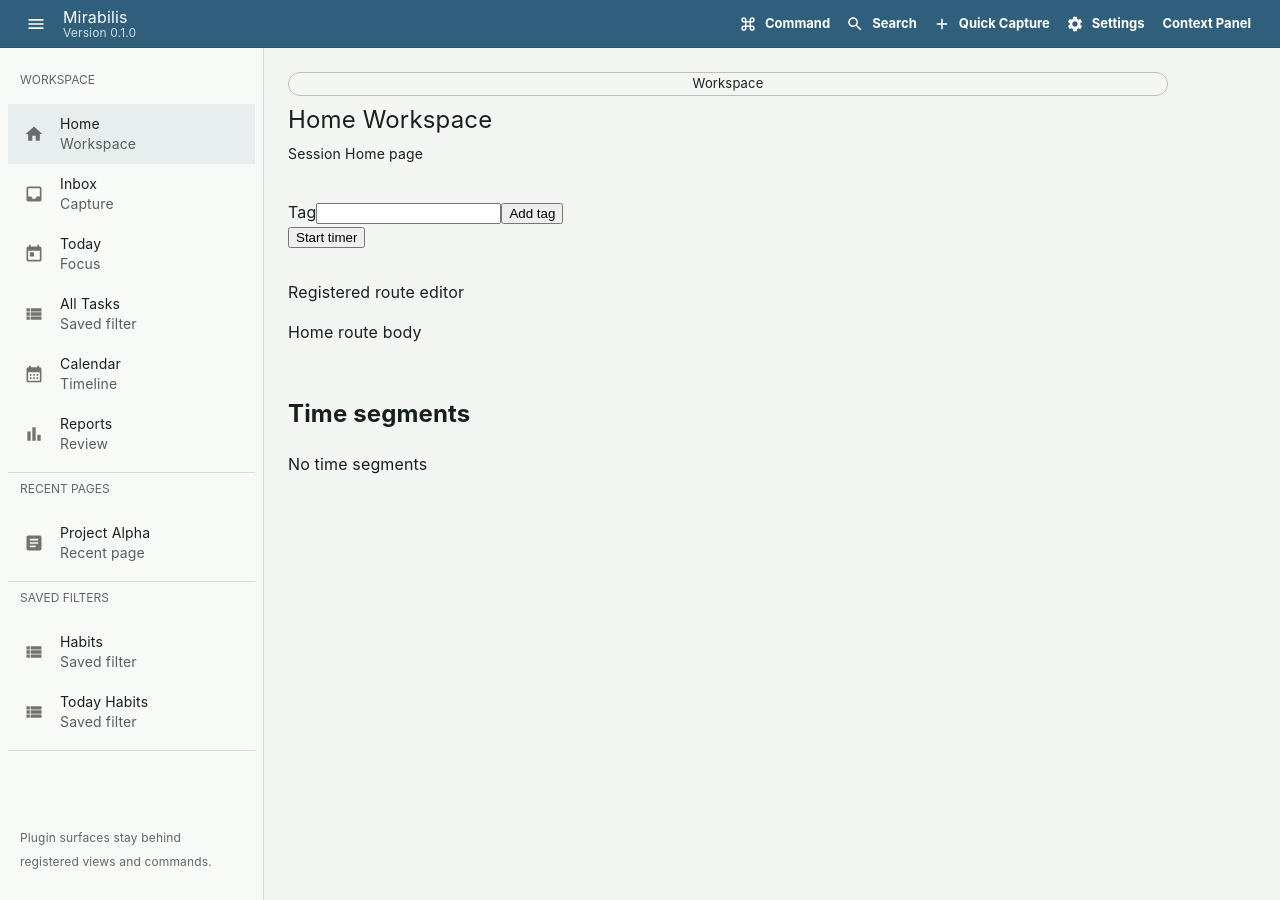
TASK-038 sidebar page and saved-filter navigation › keeps Home and recent page routes on the registered page editor through ViewHost
Expected: the text "Registered route editor" is shown, [288,282,464,302]
Expected: the text "Home route body" is shown, [288,322,422,342]
Click the button named "Workspace navigation".
click(36, 24)  # box [21,8,51,38]
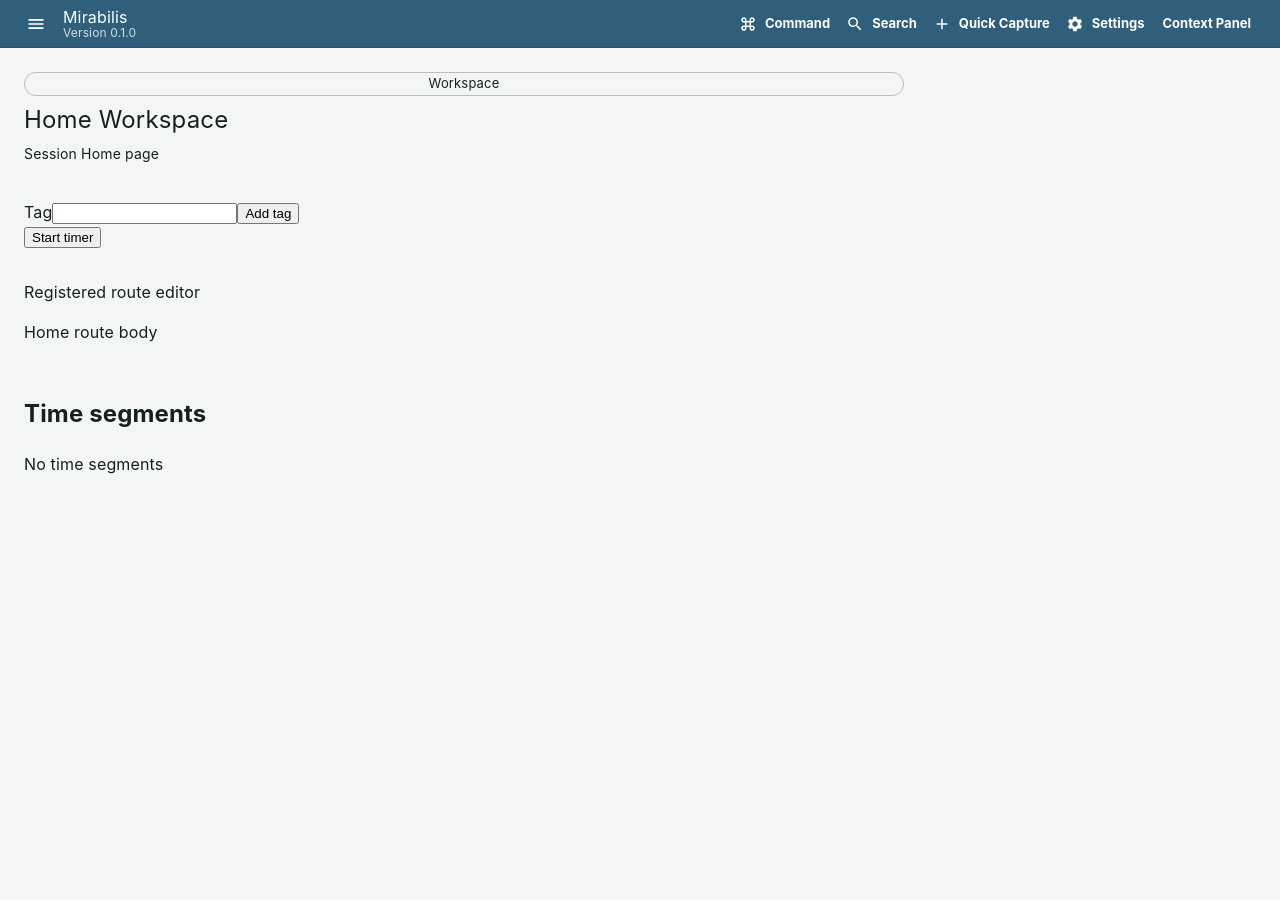
Click the button named "Workspace navigation".
click(36, 24)  # box [21,8,51,38]
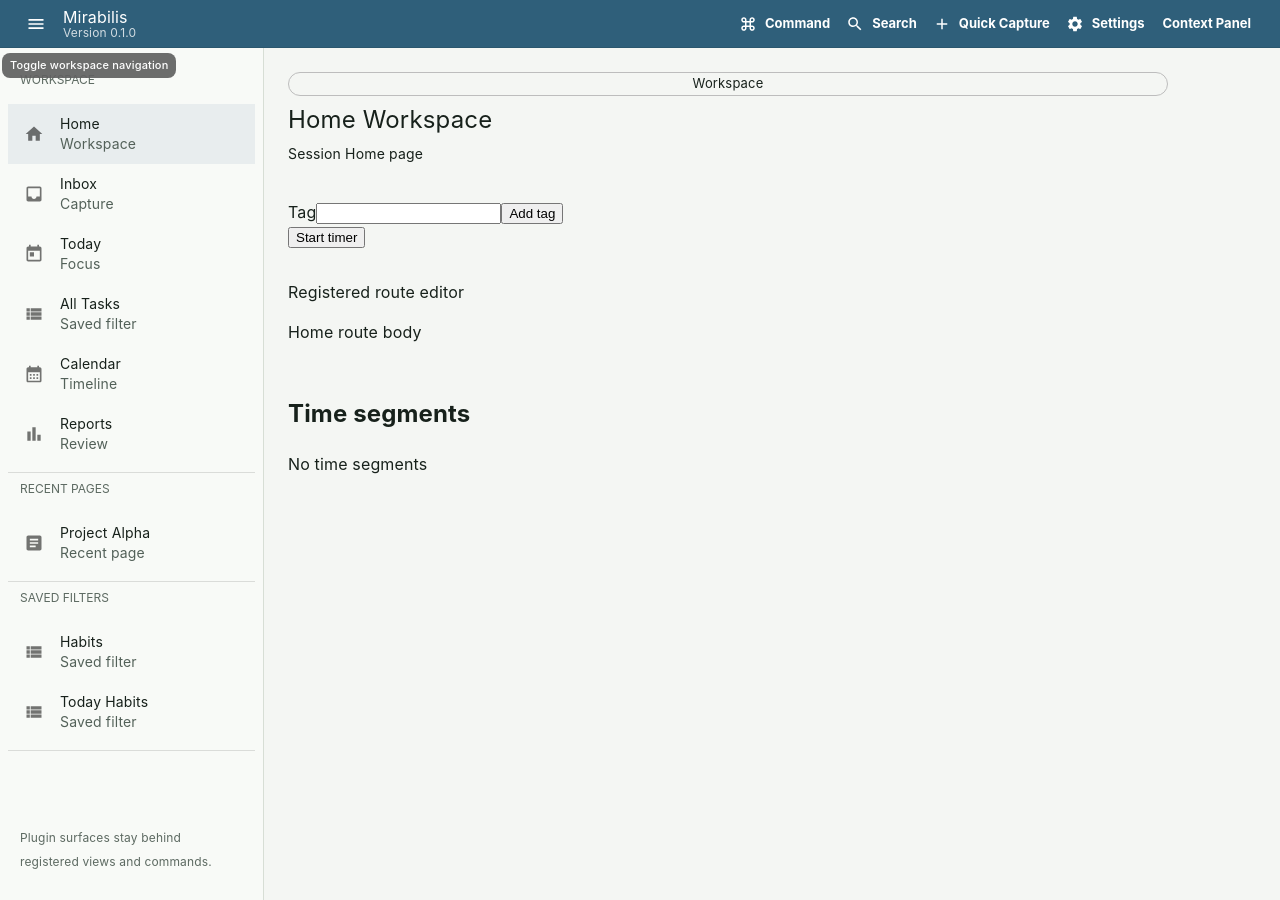
Click the button "Project Alpha Recent page".
click(87, 542)  # box [24,524,150,561]
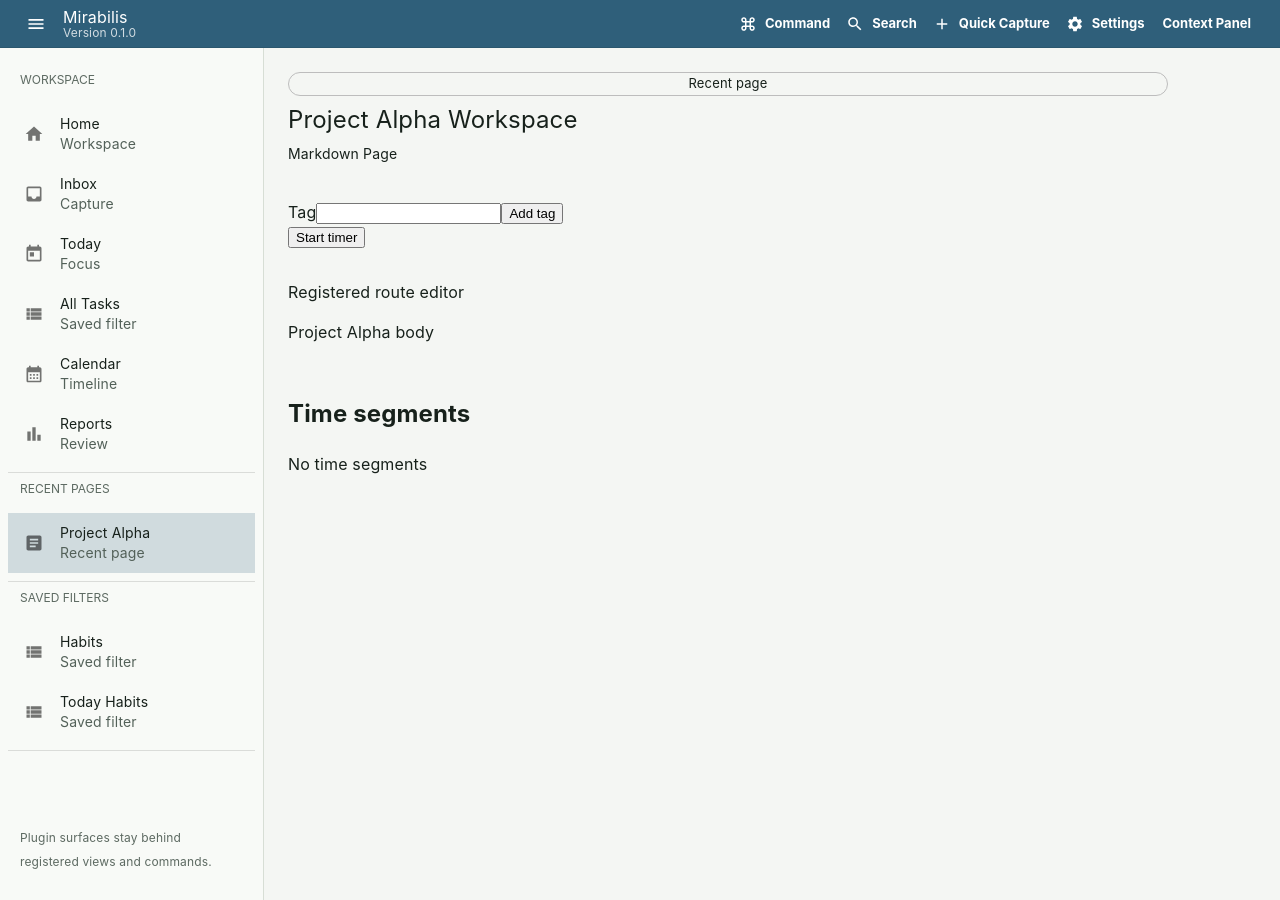
Expected: the text "Project Alpha body" is shown, [288,322,434,342]
Click the button "Home Workspace".
click(80, 133)  # box [24,115,136,152]
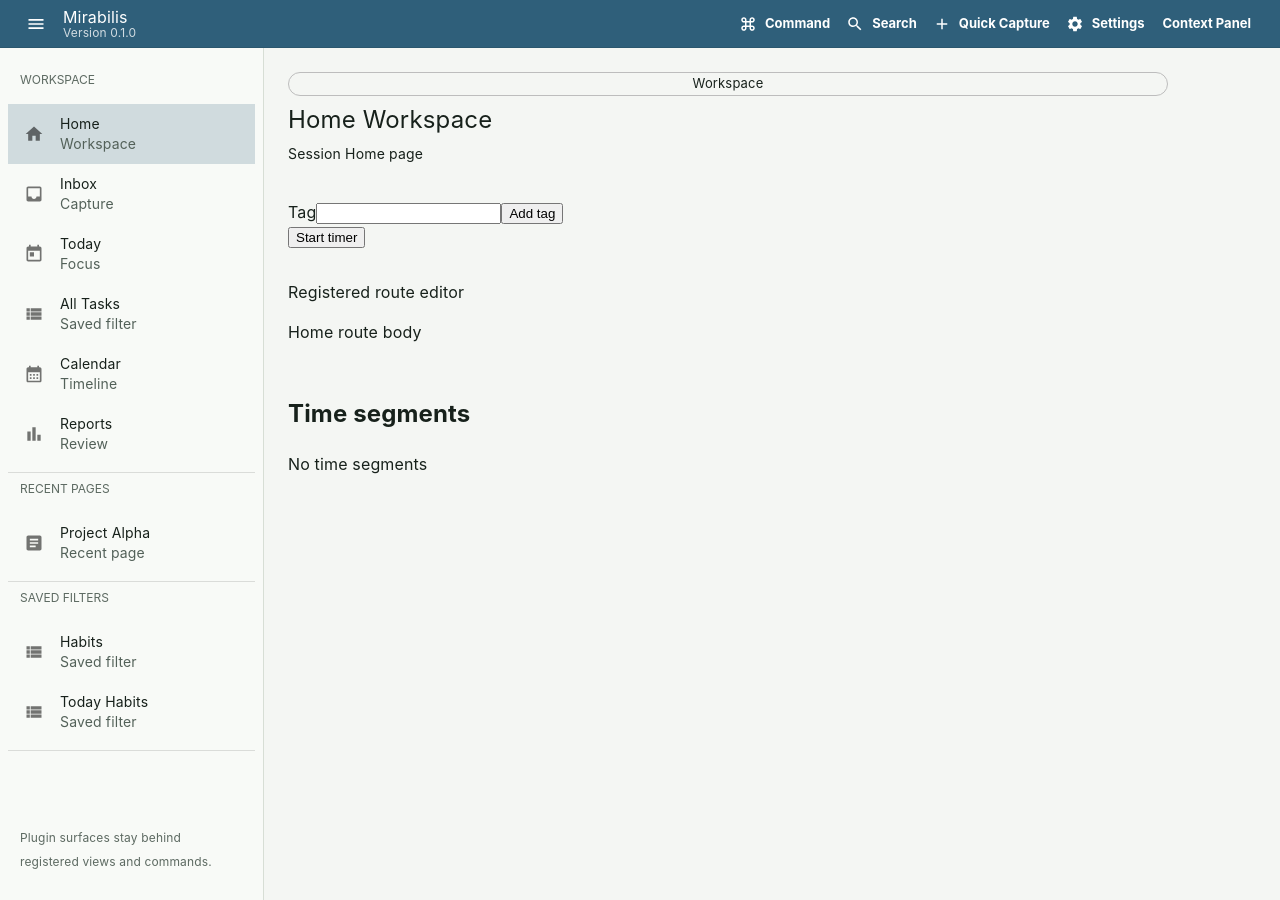
Expected: the text "Home route body" is shown, [288,322,422,342]
